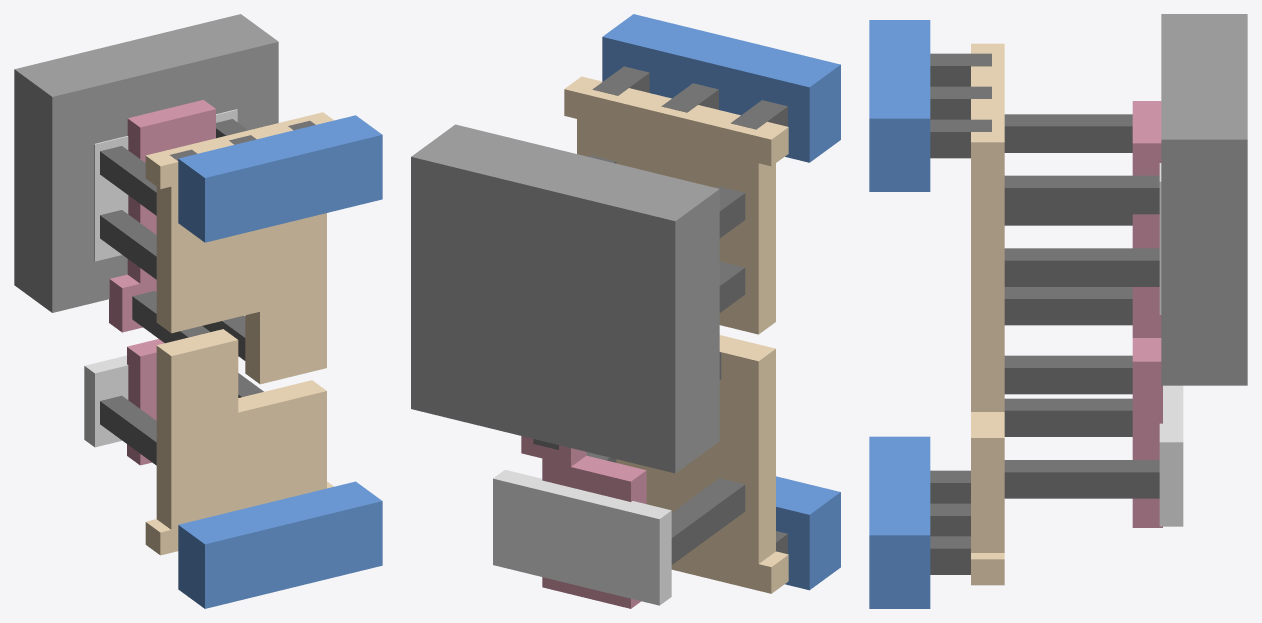
Rendered from sky130_fd_sc_hd__decap_3.gds.gltf.
The picture shows the model from 3 angles, left to right: view 1: azimuth 30°, elevation 25°; view 2: azimuth 150°, elevation 25°; view 3: azimuth 270°, elevation 25°; orthographic projection. The views are drawn at different scales.
Visible parts, largest first — view 1: sky130_fd_sc_hd__decap_3_li1, sky130_fd_sc_hd__decap_3_nwell, sky130_fd_sc_hd__decap_3_met1, sky130_fd_sc_hd__decap_3_licon, sky130_fd_sc_hd__decap_3_poly, sky130_fd_sc_hd__decap_3_diff; view 2: sky130_fd_sc_hd__decap_3_nwell, sky130_fd_sc_hd__decap_3_li1, sky130_fd_sc_hd__decap_3_met1, sky130_fd_sc_hd__decap_3_diff, sky130_fd_sc_hd__decap_3_licon, sky130_fd_sc_hd__decap_3_poly, sky130_fd_sc_hd__decap_3_mcon; view 3: sky130_fd_sc_hd__decap_3_licon, sky130_fd_sc_hd__decap_3_nwell, sky130_fd_sc_hd__decap_3_met1, sky130_fd_sc_hd__decap_3_li1, sky130_fd_sc_hd__decap_3_mcon, sky130_fd_sc_hd__decap_3_poly, sky130_fd_sc_hd__decap_3_diff.
Boxes of the visible parts, left/top/right/bottom form: sky130_fd_sc_hd__decap_3_li1: left=145, top=112, right=333, bottom=555; sky130_fd_sc_hd__decap_3_nwell: left=14, top=14, right=278, bottom=312; sky130_fd_sc_hd__decap_3_met1: left=178, top=115, right=382, bottom=608; sky130_fd_sc_hd__decap_3_licon: left=100, top=119, right=263, bottom=465; sky130_fd_sc_hd__decap_3_poly: left=109, top=100, right=215, bottom=465; sky130_fd_sc_hd__decap_3_diff: left=84, top=109, right=237, bottom=447; sky130_fd_sc_hd__decap_3_nwell: left=411, top=124, right=719, bottom=473; sky130_fd_sc_hd__decap_3_li1: left=564, top=76, right=788, bottom=593; sky130_fd_sc_hd__decap_3_met1: left=602, top=14, right=840, bottom=590; sky130_fd_sc_hd__decap_3_diff: left=493, top=469, right=671, bottom=605; sky130_fd_sc_hd__decap_3_licon: left=533, top=155, right=745, bottom=564; sky130_fd_sc_hd__decap_3_poly: left=521, top=436, right=646, bottom=608; sky130_fd_sc_hd__decap_3_mcon: left=592, top=66, right=787, bottom=554; sky130_fd_sc_hd__decap_3_licon: left=1004, top=114, right=1159, bottom=498; sky130_fd_sc_hd__decap_3_nwell: left=1161, top=14, right=1247, bottom=385; sky130_fd_sc_hd__decap_3_met1: left=869, top=20, right=930, bottom=608; sky130_fd_sc_hd__decap_3_li1: left=971, top=43, right=1004, bottom=585; sky130_fd_sc_hd__decap_3_mcon: left=930, top=53, right=991, bottom=574; sky130_fd_sc_hd__decap_3_poly: left=1132, top=101, right=1162, bottom=527; sky130_fd_sc_hd__decap_3_diff: left=1159, top=163, right=1183, bottom=526.
Bounding box in the file's own units: 1.76 × 3.2 × 2.24.
